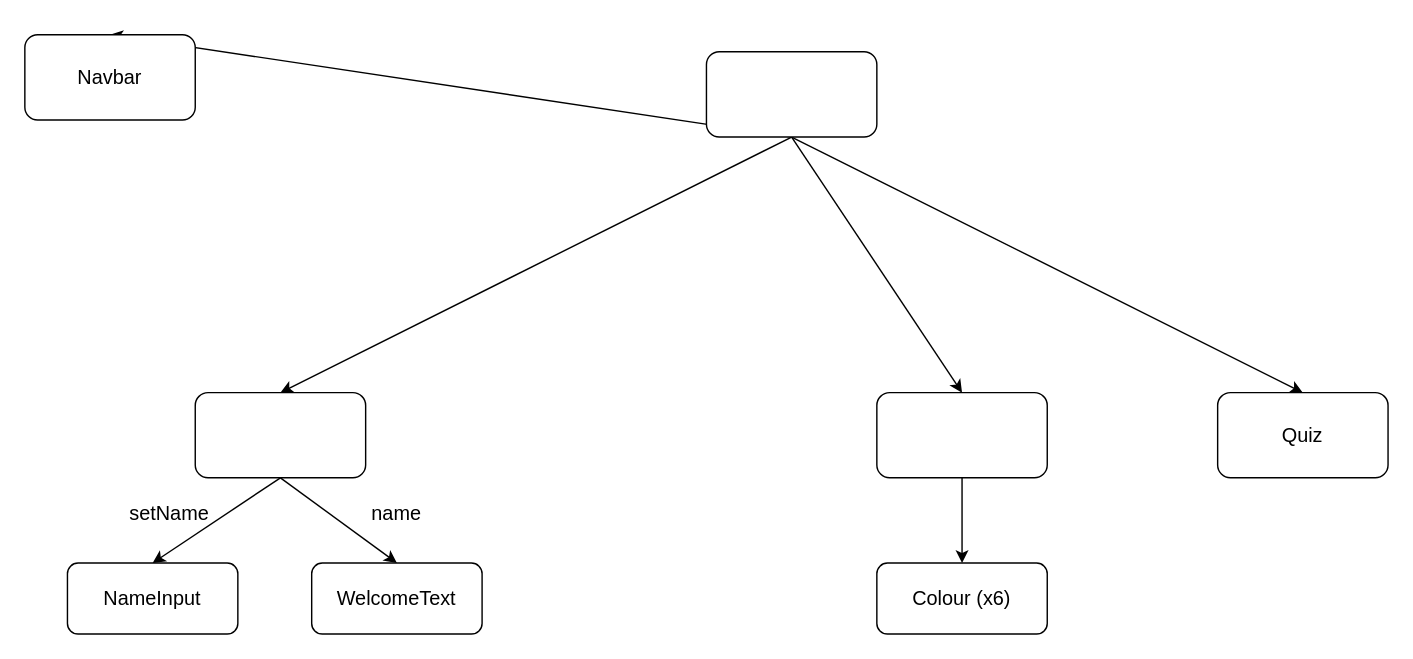
Image size: 1413x659. Some labels were removed from this diagram. The shapes that lost their labels are listed below. From the top down, each one's centre as x and y in pixels, then its label:
[791,93]: App
[280,434]: Home
[961,434]: Learn
